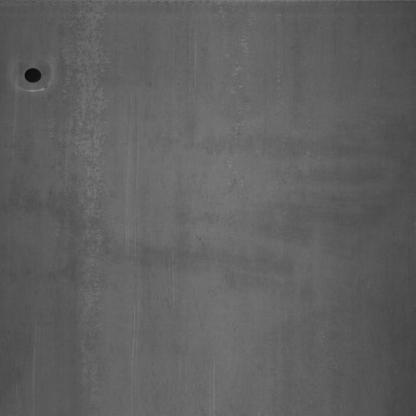punching_hole: (21, 62, 44, 86)
